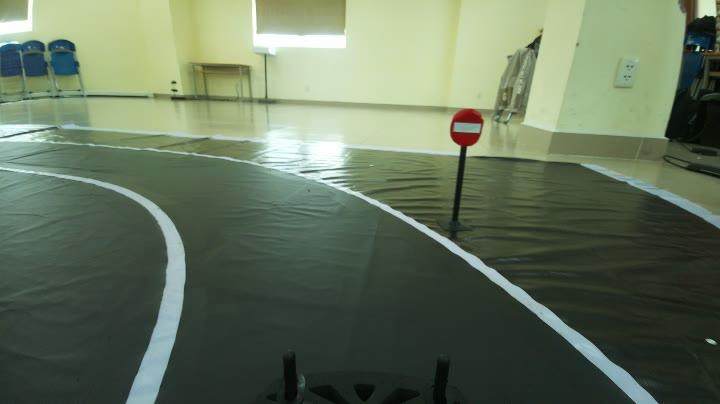no_entry: (443, 100, 489, 150)
